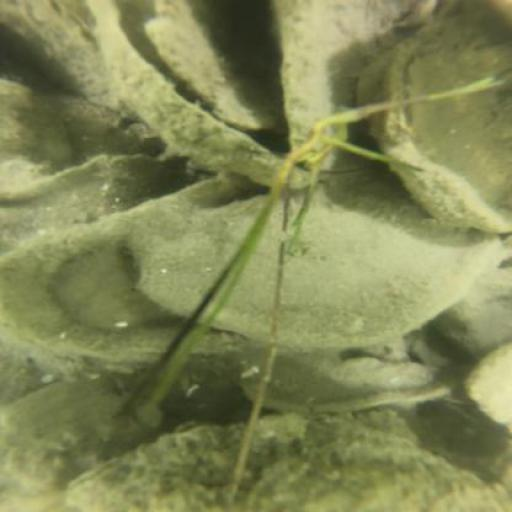Oyster-Closed: (71, 419, 511, 512), (283, 190, 508, 350), (1, 378, 155, 512), (147, 1, 275, 130), (129, 197, 266, 316), (231, 351, 458, 414), (435, 260, 512, 356), (2, 84, 67, 190), (466, 343, 512, 424)
